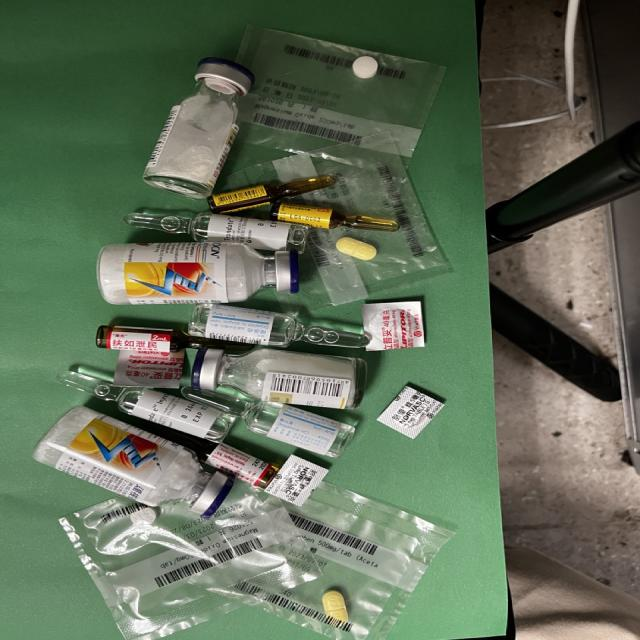Ampoules: (56, 370, 237, 443), (181, 386, 355, 459), (188, 304, 370, 348), (123, 212, 309, 254), (174, 432, 280, 489), (207, 176, 333, 214), (95, 325, 255, 352), (270, 202, 400, 232)
Vials: (32, 406, 236, 518), (142, 56, 255, 199), (96, 242, 299, 304), (191, 346, 367, 410)
